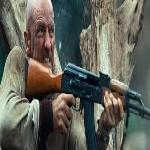Senapan: (7, 46, 150, 144)
